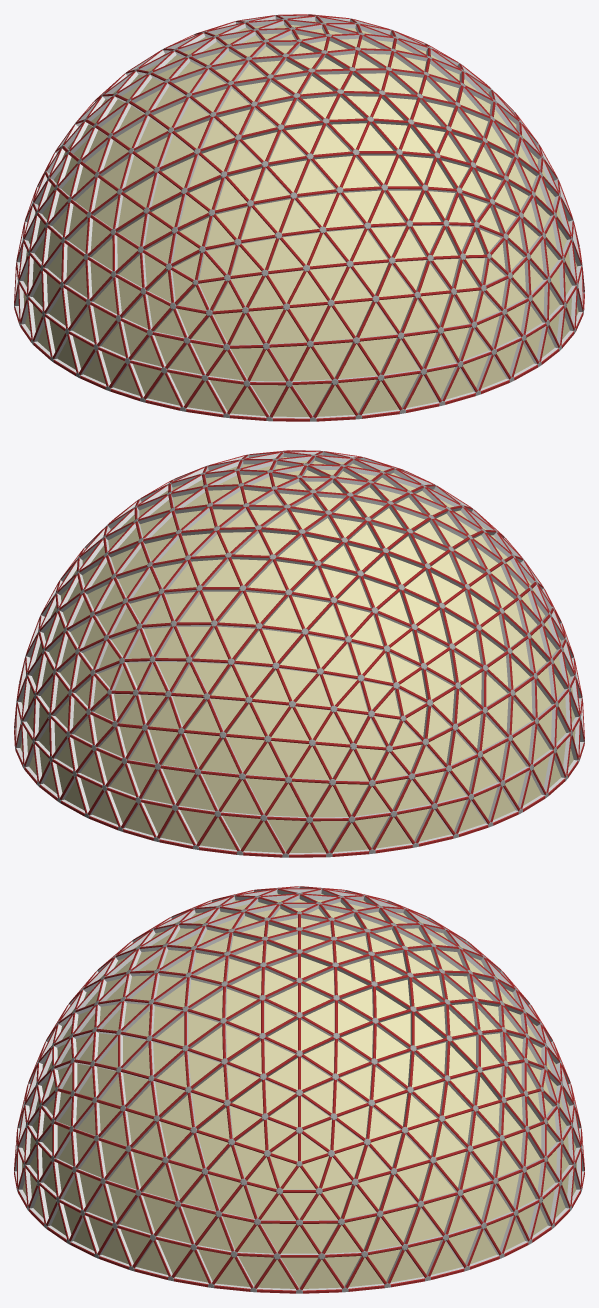
The model's file is Initial_shell_full.fbx.
The picture shows the model from 3 angles, top to bottom: view 1: azimuth 30°, elevation 25°; view 2: azimuth 150°, elevation 25°; view 3: azimuth 270°, elevation 25°; orthographic projection.
Parts seen in each view (by area): view 1: Icosphere; view 2: Icosphere; view 3: Icosphere.
Boxes of the visible parts, <box> form: Icosphere: <box>14,14,584,421</box>; Icosphere: <box>14,450,584,857</box>; Icosphere: <box>14,886,584,1293</box>.
Size of the model in its own units: 1998 by 1005 by 1998.
